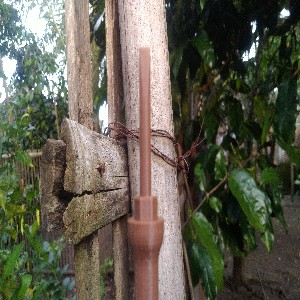obeng: (125, 46, 165, 300)
